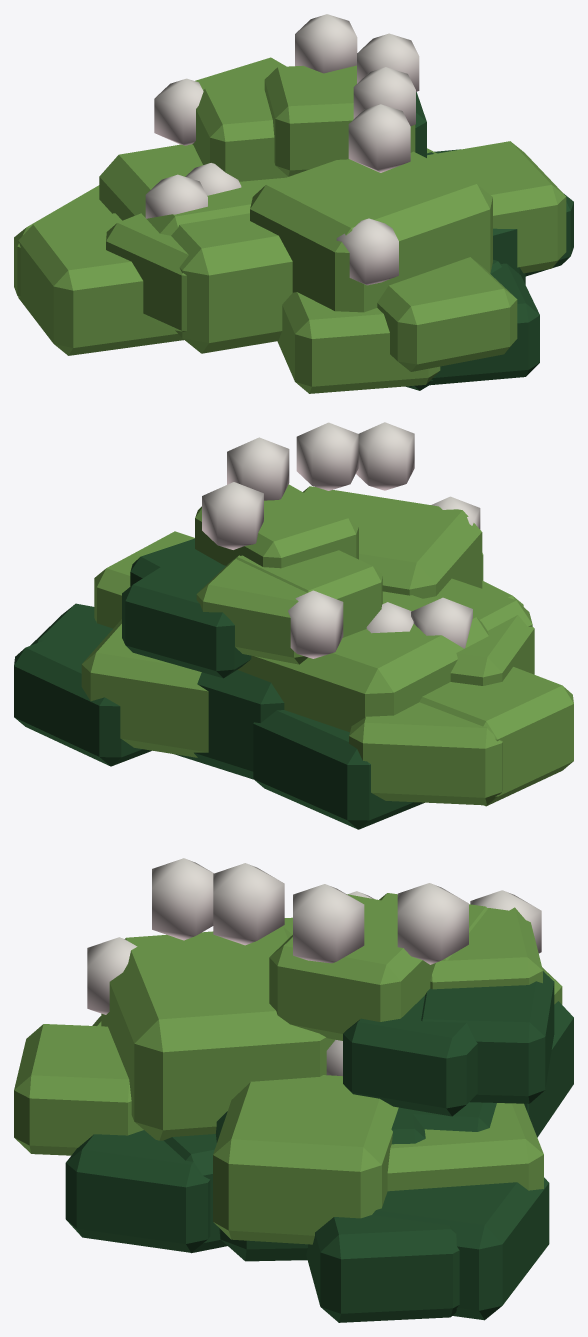
File: bush_flower.glb
The picture shows the model from 3 angles, top to bottom: view 1: azimuth 30°, elevation 25°; view 2: azimuth 150°, elevation 25°; view 3: azimuth 270°, elevation 25°; orthographic projection. The views are drawn at different scales.
Visible parts, largest first — view 1: BushFlower; view 2: BushFlower; view 3: BushFlower.
Boxes of the visible parts, x1=… form: BushFlower: x1=14, y1=14, x2=573, y2=393; BushFlower: x1=14, y1=422, x2=573, y2=829; BushFlower: x1=14, y1=858, x2=573, y2=1322.
Bounding box in the file's own units: 1.73 × 0.9023 × 1.35.
